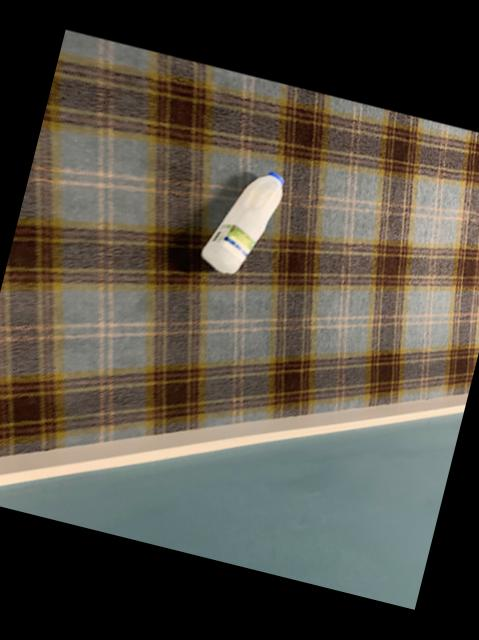plastic: (202, 174, 284, 275)
